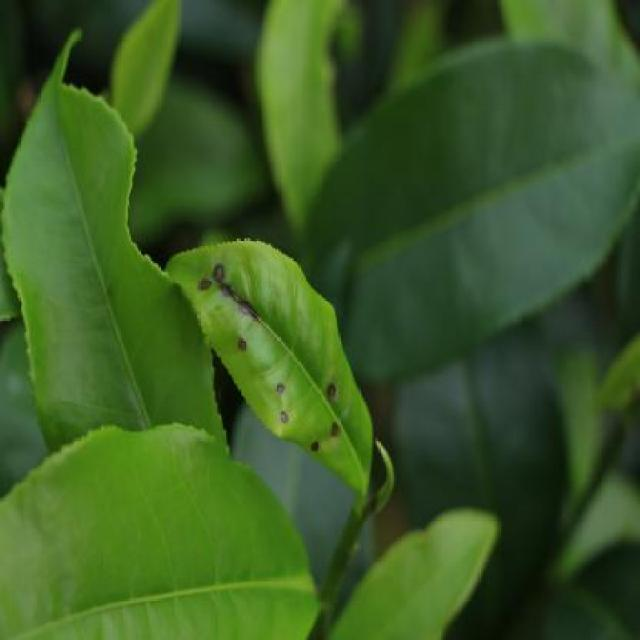Tea Mosquito bug infested leaf: (159, 242, 403, 486)
